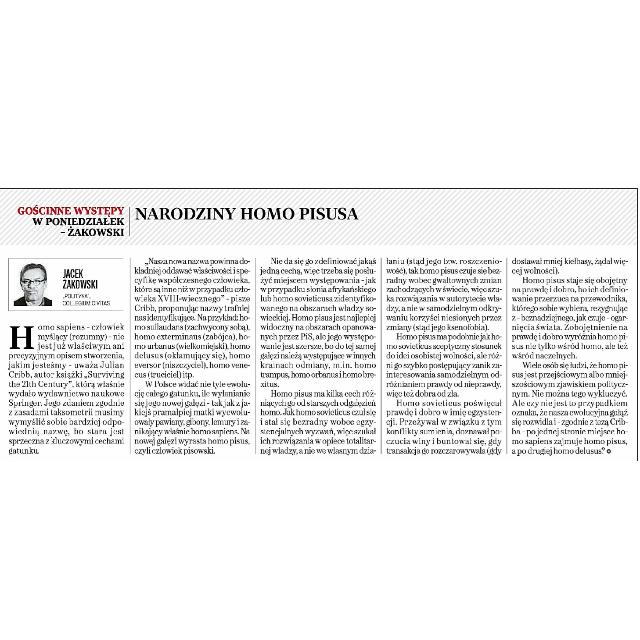author: (59, 264, 107, 290)
body: (509, 254, 633, 456), (384, 252, 504, 458), (259, 254, 379, 456), (133, 256, 253, 457), (3, 318, 128, 457)
title: (132, 202, 368, 222)
